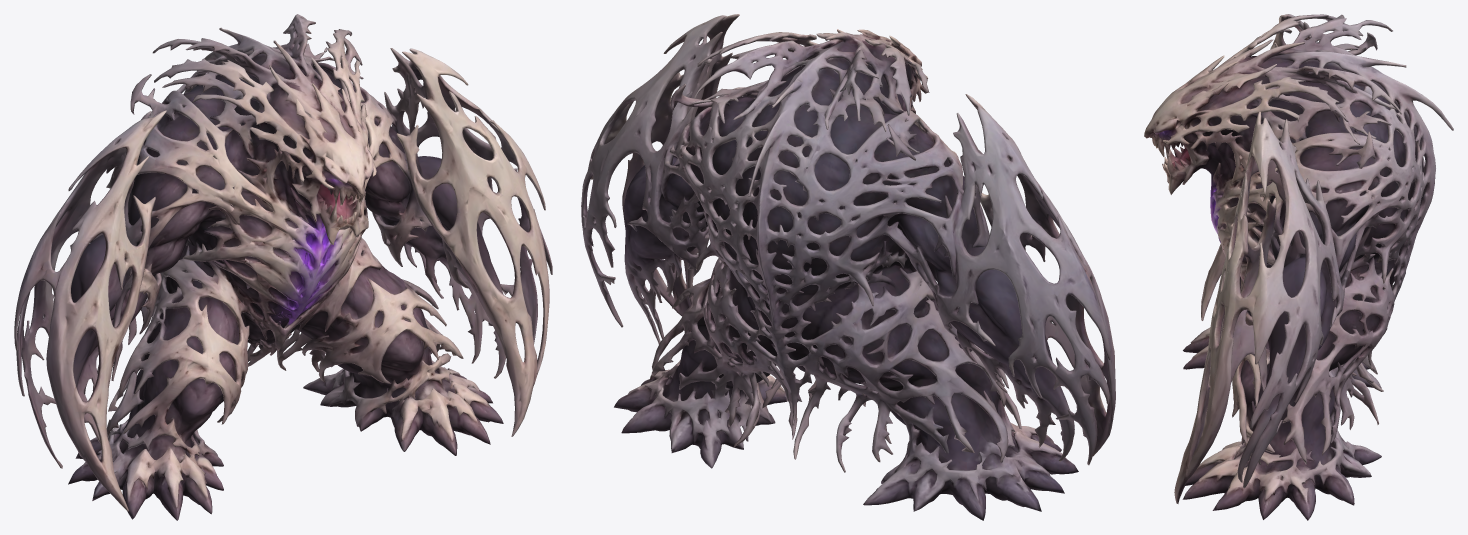
The model's file is boss_lunar.glb.
3 views of the same model, side by side, from view 1: azimuth 30°, elevation 25°; view 2: azimuth 150°, elevation 25°; view 3: azimuth 270°, elevation 25° (orthographic). The views are drawn at different scales.
Parts seen in each view (by area): view 1: tripo_node_5d065a7d-34be-46ff-9420-9d070e4a241b; view 2: tripo_node_5d065a7d-34be-46ff-9420-9d070e4a241b; view 3: tripo_node_5d065a7d-34be-46ff-9420-9d070e4a241b.
Part boxes in pixels (<box>): tripo_node_5d065a7d-34be-46ff-9420-9d070e4a241b: <box>14,14,552,520</box>; tripo_node_5d065a7d-34be-46ff-9420-9d070e4a241b: <box>581,14,1115,520</box>; tripo_node_5d065a7d-34be-46ff-9420-9d070e4a241b: <box>1144,14,1453,520</box>.
Bounding box in the file's own units: 0.9796 × 0.725 × 0.5244.
1 material, 1 textured.
